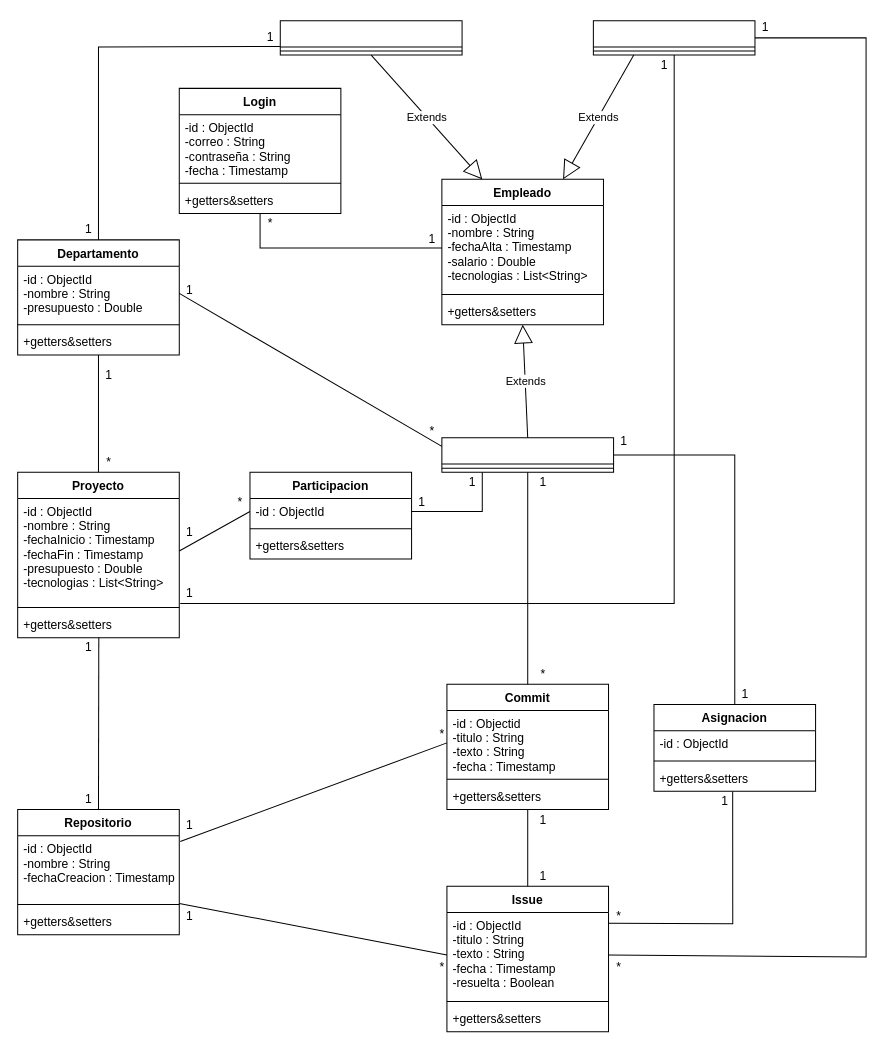
Some shapes in this 885 by 1051 pixel diagram are drawn without their labels. Each missing label, with the centre of its shape:
"JefeDepartamento" goes at pixel 370 37.
"JefeProyecto" goes at pixel 673 37.
"Programador" goes at pixel 527 454.
